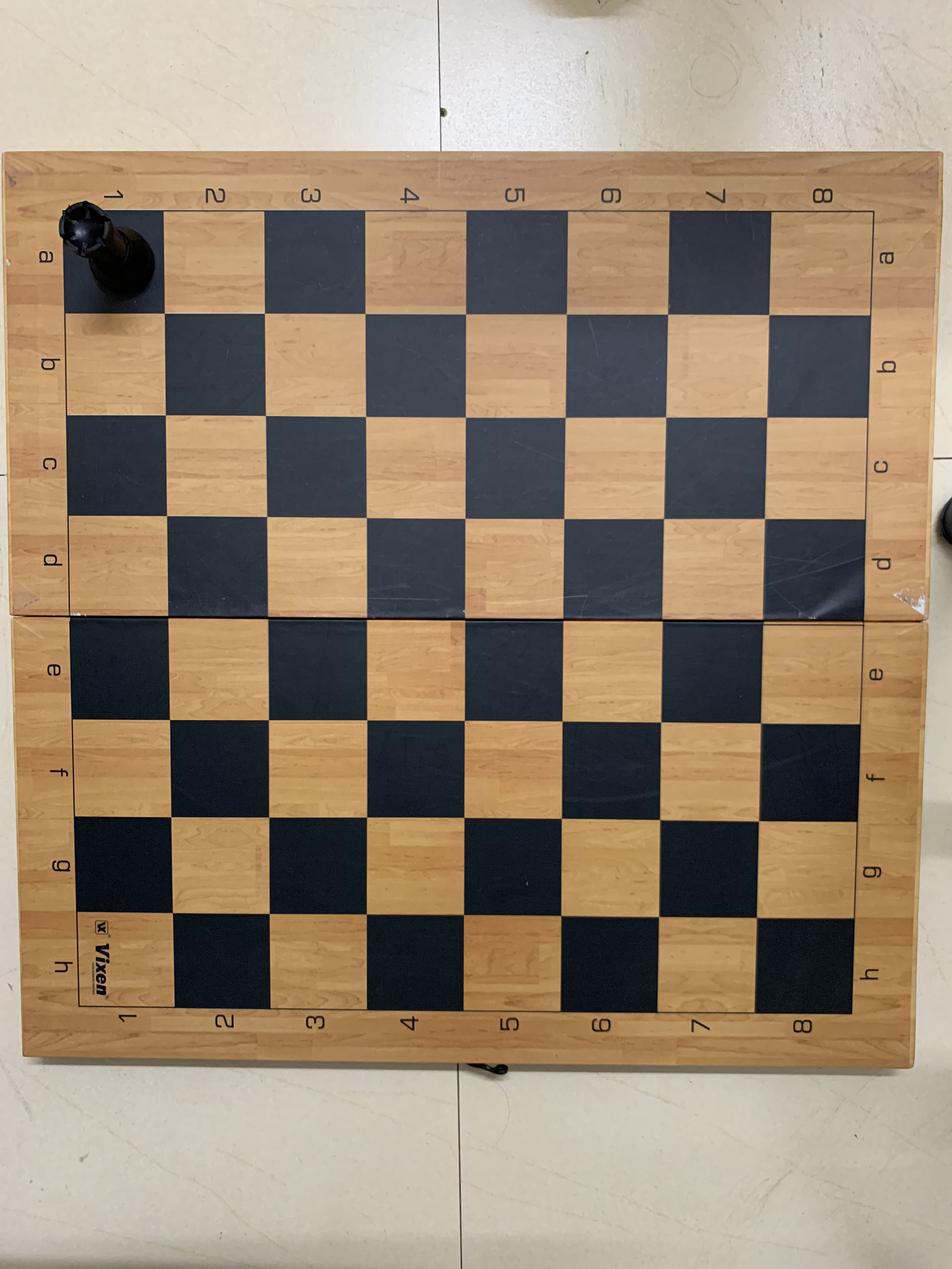black_rook: (43, 191, 170, 309)
